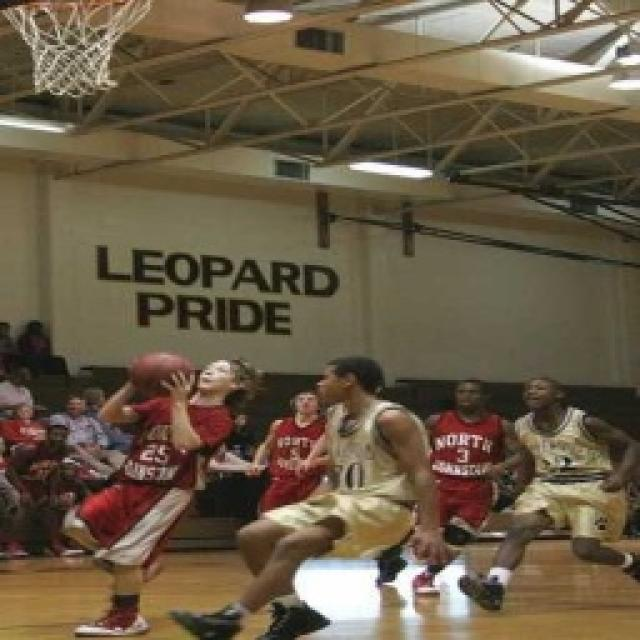rim: (124, 342, 198, 407)
